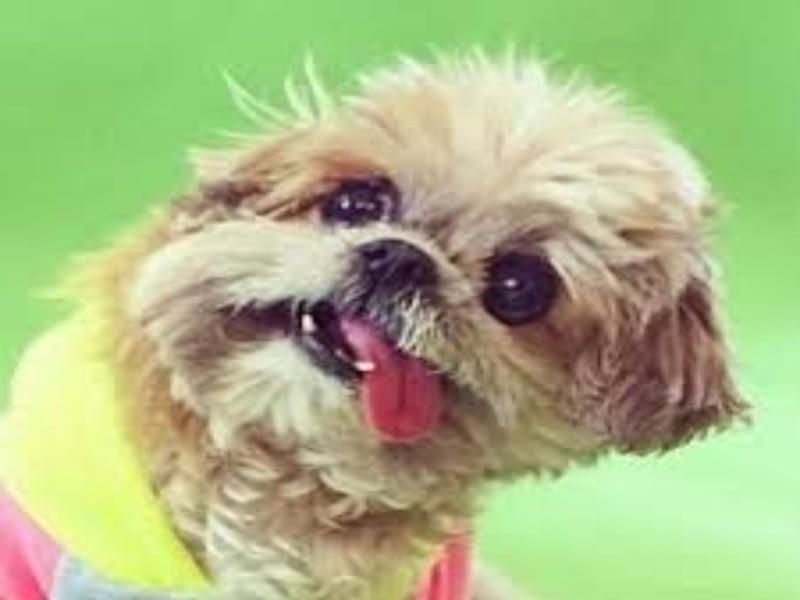dog: (7, 41, 762, 600)
